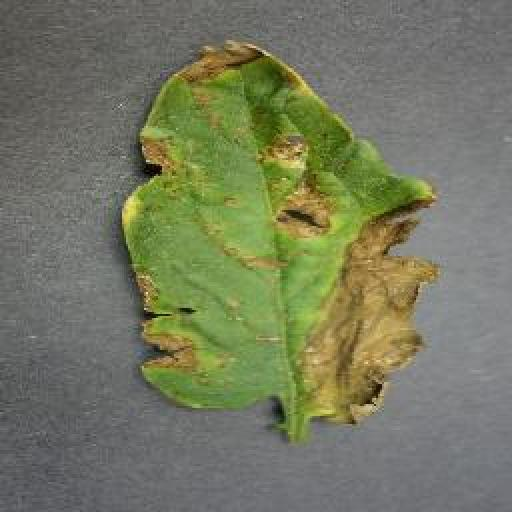Bacterial Spot: (114, 32, 448, 452)
